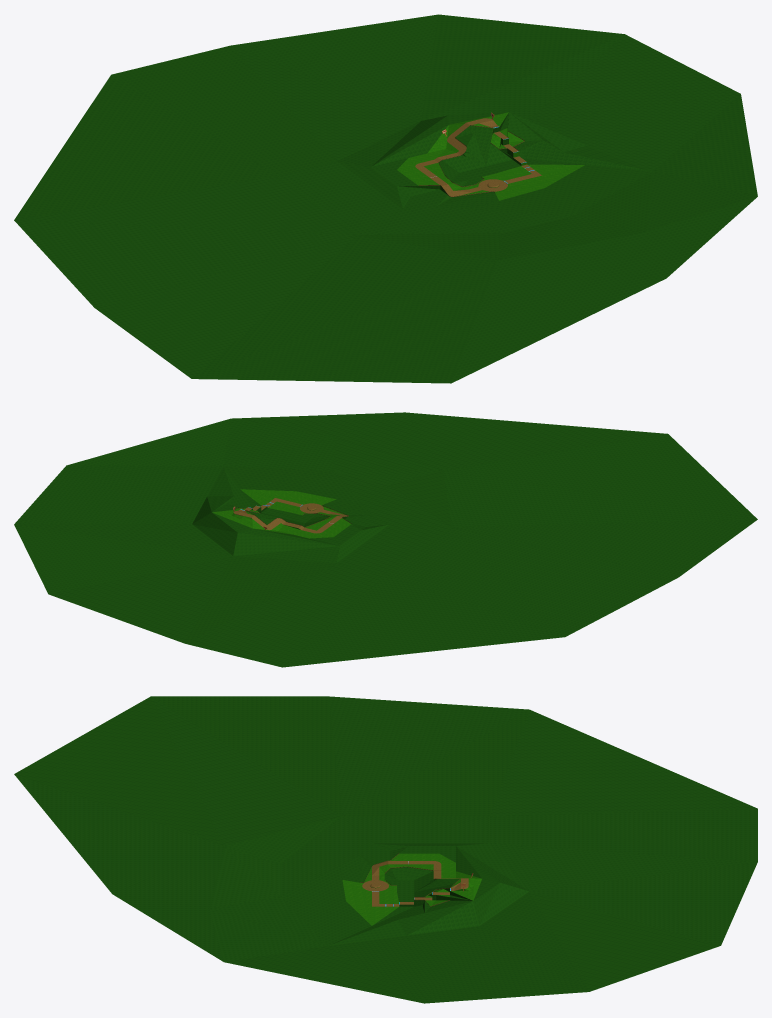
3 renders of one model, top to bottom at view 1: azimuth 30°, elevation 25°; view 2: azimuth 150°, elevation 25°; view 3: azimuth 270°, elevation 25°, orthographic. The views are drawn at different scales.
Visible parts, largest first — view 1: farm_course_low_SKP__darkgrass, farm_course_low_SKP__light_grass, farm_course_low_SKP__road; view 2: farm_course_low_SKP__darkgrass, farm_course_low_SKP__light_grass, farm_course_low_SKP__road; view 3: farm_course_low_SKP__darkgrass, farm_course_low_SKP__light_grass, farm_course_low_SKP__road.
Boxes of the visible parts, left/top/right/bottom form: farm_course_low_SKP__darkgrass: left=14, top=14, right=757, bottom=383; farm_course_low_SKP__light_grass: left=397, top=112, right=584, bottom=200; farm_course_low_SKP__road: left=415, top=118, right=541, bottom=196; farm_course_low_SKP__darkgrass: left=14, top=412, right=757, bottom=667; farm_course_low_SKP__light_grass: left=212, top=489, right=351, bottom=538; farm_course_low_SKP__road: left=233, top=498, right=348, bottom=533; farm_course_low_SKP__darkgrass: left=14, top=696, right=757, bottom=1003; farm_course_low_SKP__light_grass: left=342, top=853, right=481, bottom=925; farm_course_low_SKP__road: left=362, top=861, right=468, bottom=906.
Bounding box in the file's own units: 397729 × 14079 × 400961.
Materials: 9 (9 with a texture image).
